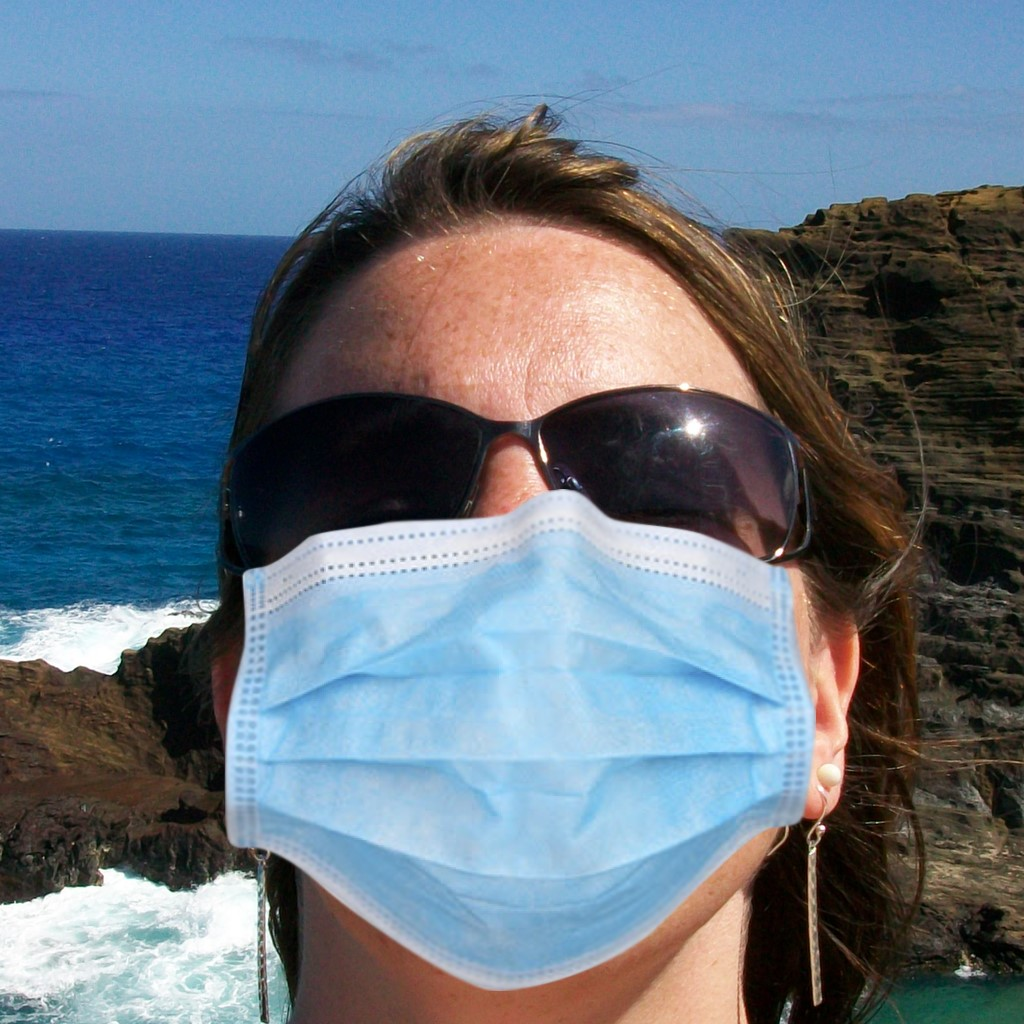con_mascara: (252, 213, 792, 946)
